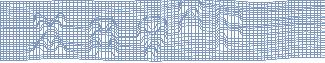8: (86, 17, 119, 59)
9: (135, 15, 169, 62)
F: (214, 9, 243, 52)
X: (30, 12, 71, 56)
z: (176, 1, 206, 35)
